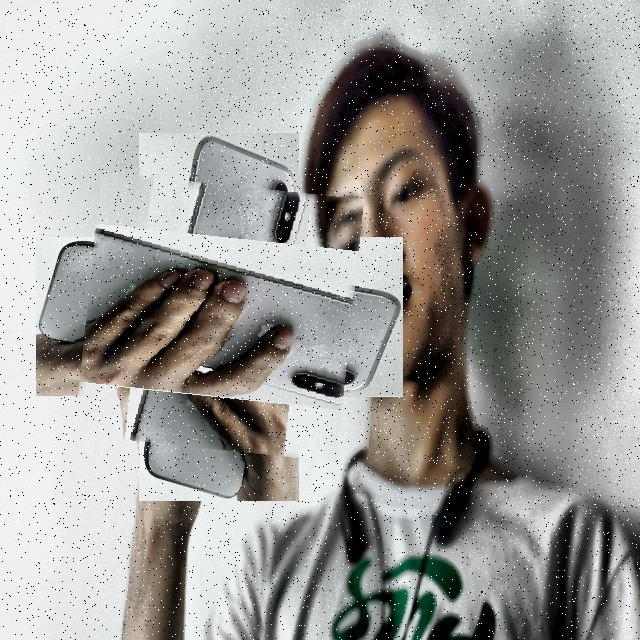Phone: (81, 178, 358, 456)
